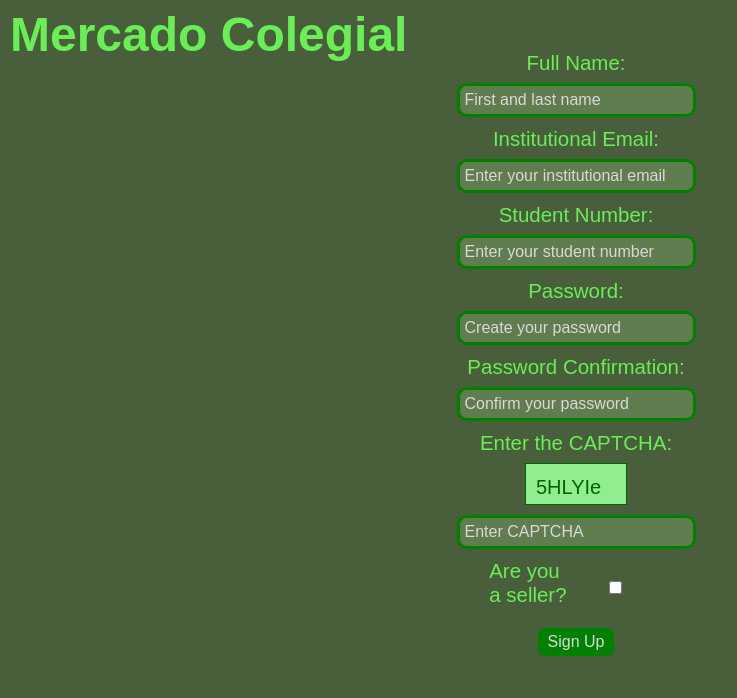
Test: Sign-Up Edge Cases › should reject incorrect CAPTCHA input
This screenshot has width=737, height=698.
Type "Test User" into the field with id "Name" at x=577, y=100, box [457,83,696,117]
Type "user@upr.edu" into the field with id "institutionalEmail" at x=577, y=176, box [457,159,696,193]
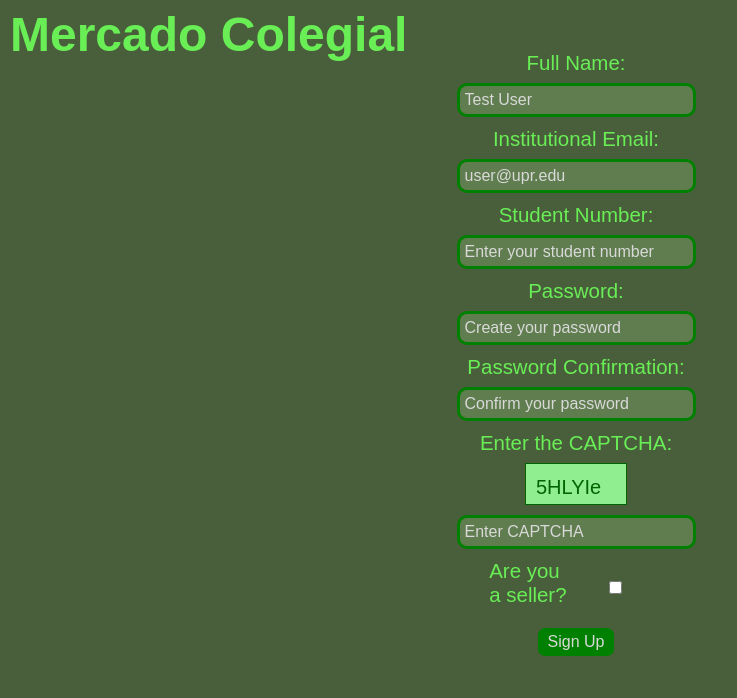
Type "802-12-3456" into the field with id "studentNumber" at x=577, y=252, box [457,235,696,269]
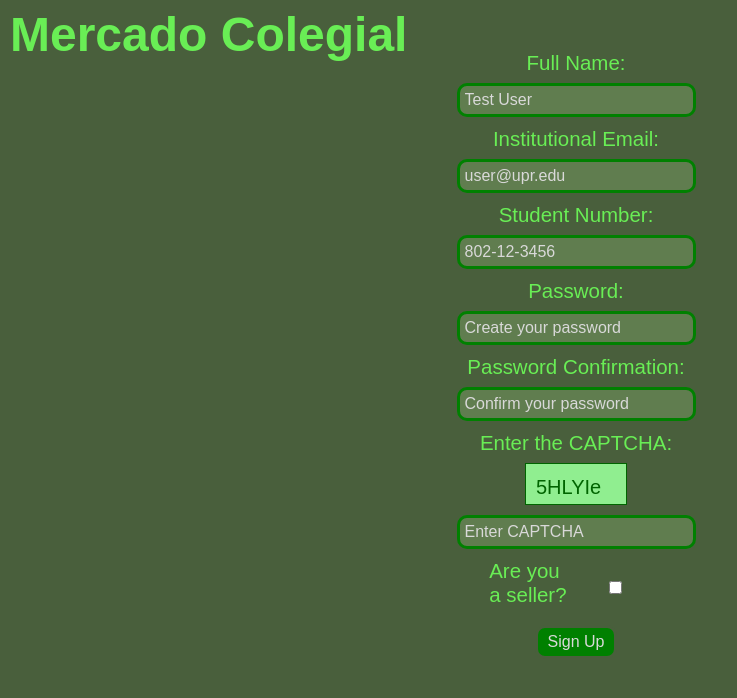
Type "ValidPassword1!" into the password field with id "signUpPassword" at x=577, y=328, box [457,311,696,345]
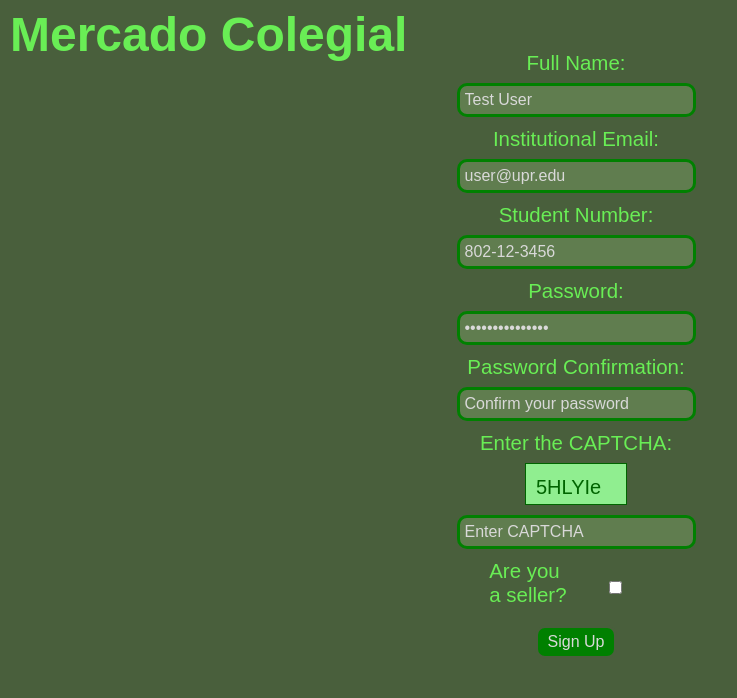
Type "ValidPassword1!" into the password field with id "signUpPassword1" at x=577, y=404, box [457,387,696,421]
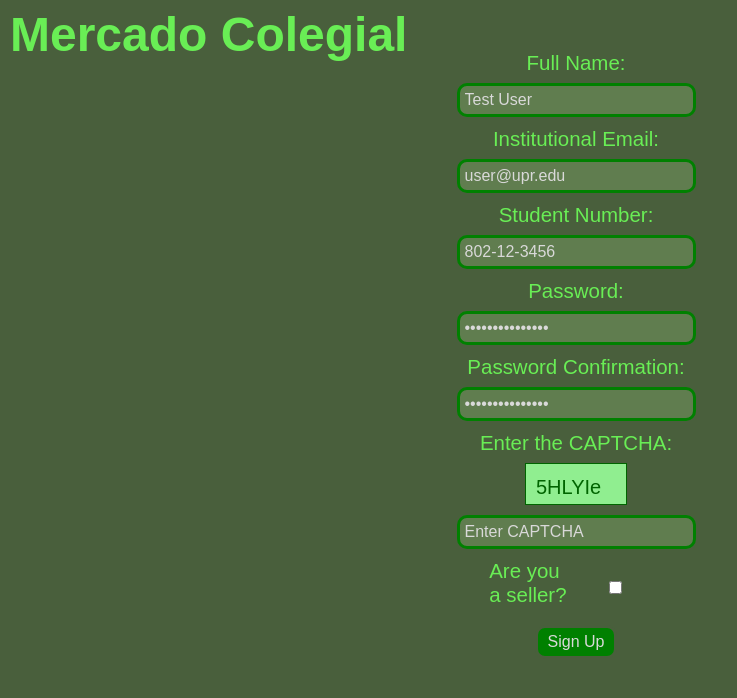
Type "wrongcaptcha" into the field with id "captchaInput" at x=577, y=532, box [457,515,696,549]
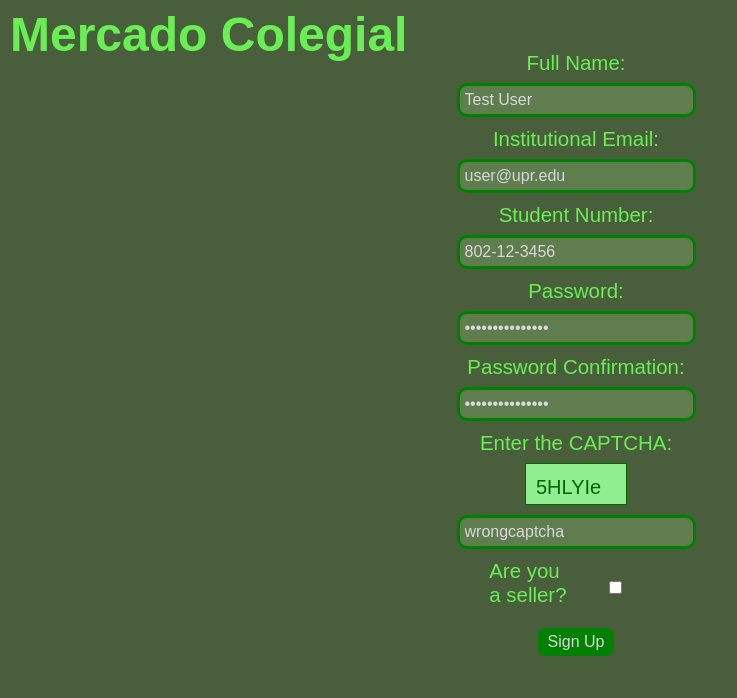
Click the button "Sign Up" at x=577, y=642, box [535,625,618,659]
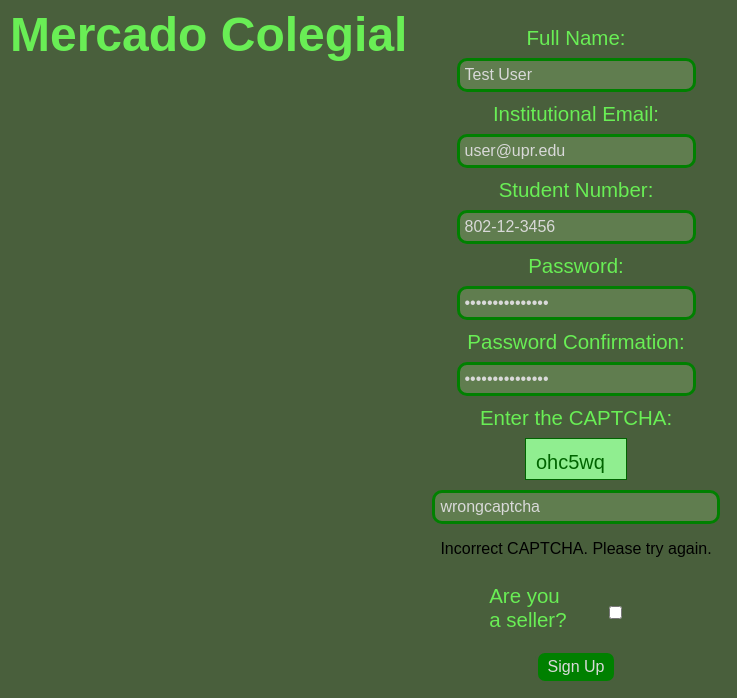
Result: the text with class "error" reads "Incorrect CAPTCHA. Please try again." at [440,540,711,557]
